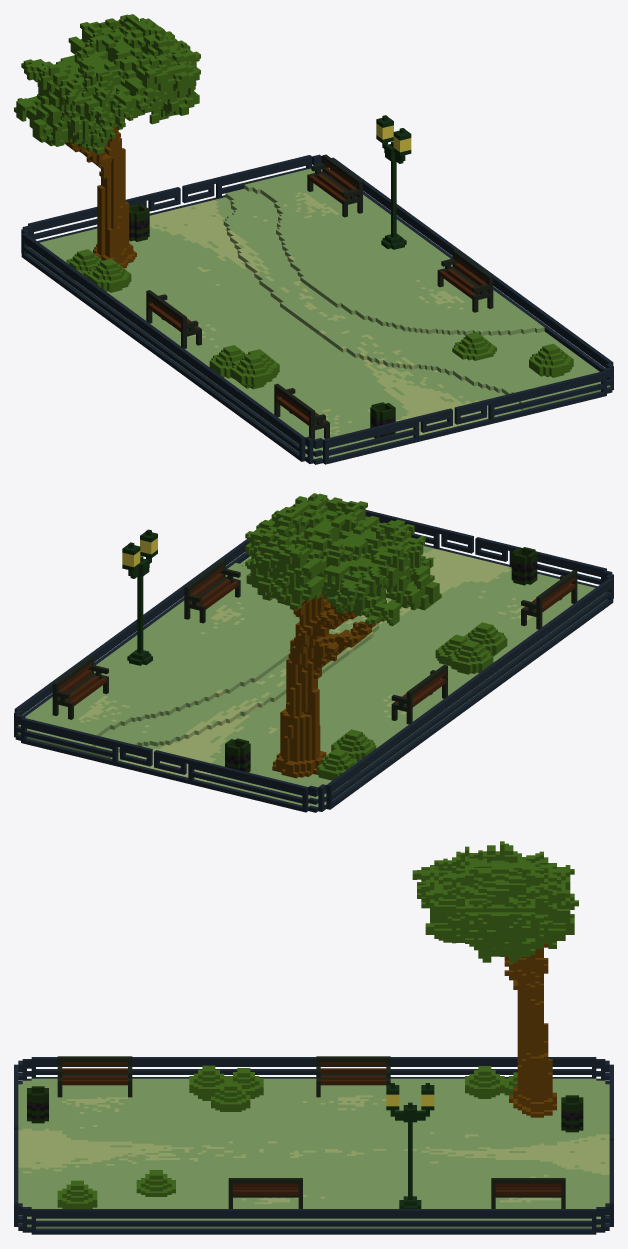
The model's file is Park.obj.
3 renders of one model, top to bottom at view 1: azimuth 30°, elevation 25°; view 2: azimuth 150°, elevation 25°; view 3: azimuth 270°, elevation 25°, orthographic.
Bounding box in the file's own units: 9.5 × 6.5 × 13.7.
1 material, 1 textured.
